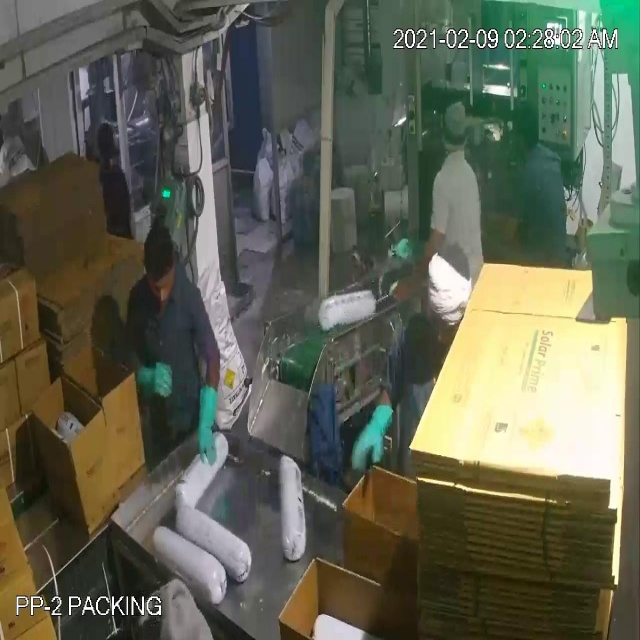Guantes: (189, 372, 226, 477), (348, 396, 395, 476), (120, 350, 176, 412)
Sin_guantes: (393, 236, 445, 305)
